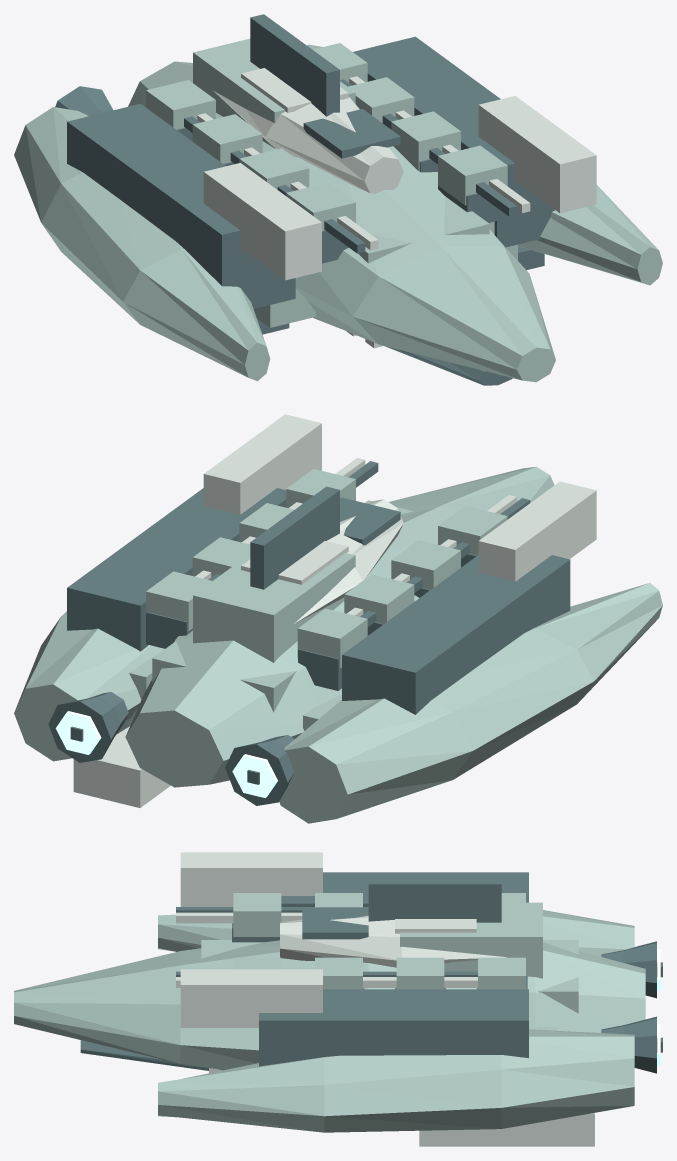
3 views of the same model, one above another, from view 1: azimuth 30°, elevation 25°; view 2: azimuth 150°, elevation 25°; view 3: azimuth 270°, elevation 25° (orthographic). The views are drawn at different scales.
Bounding box in the file's own units: 18.63 × 9.09 × 25.47.
